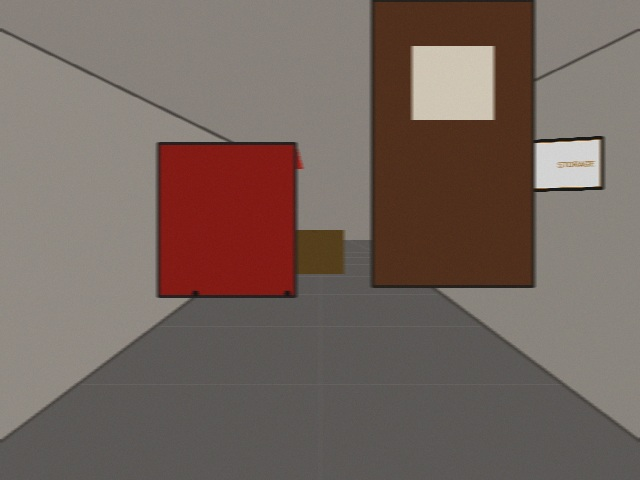cart: (158, 143, 302, 296)
directional_sign: (493, 137, 602, 191)
door: (372, 0, 533, 286)
pallet: (228, 230, 343, 273)
